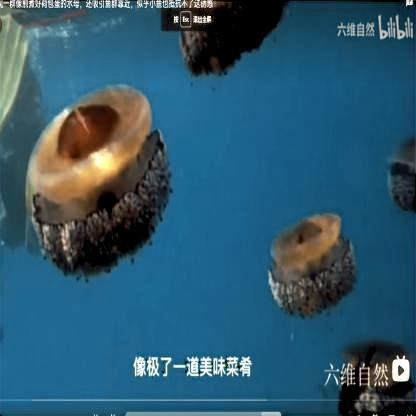StarThorn: (26, 85, 171, 277), (266, 210, 359, 314), (180, 3, 287, 79), (339, 342, 413, 411), (386, 137, 416, 211)
